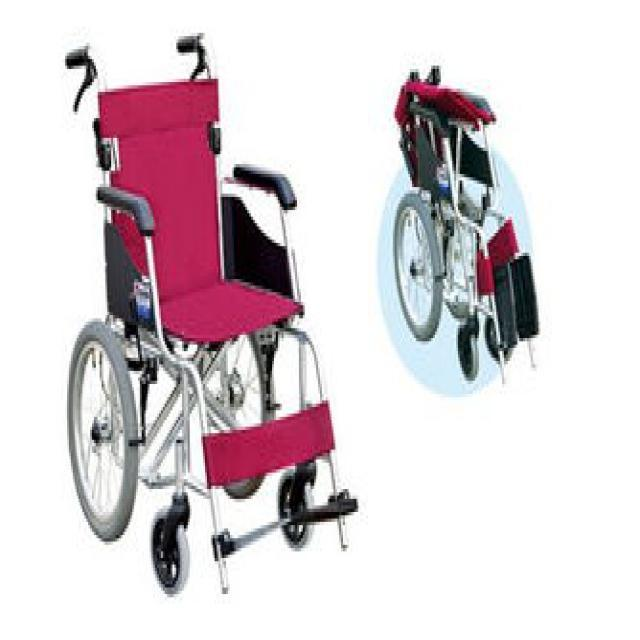wheelchair: (32, 19, 362, 634)
